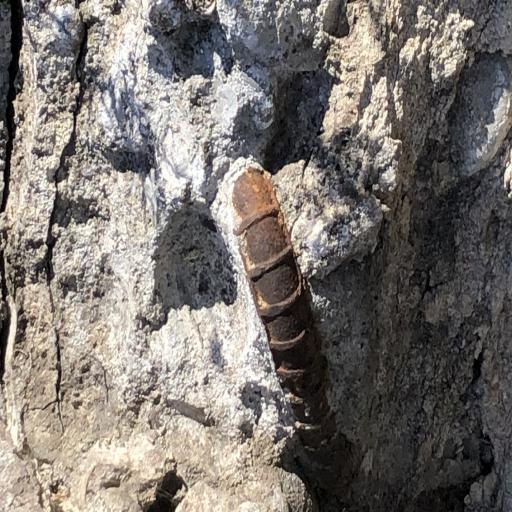exposed_rebar: (232, 165, 353, 508)
